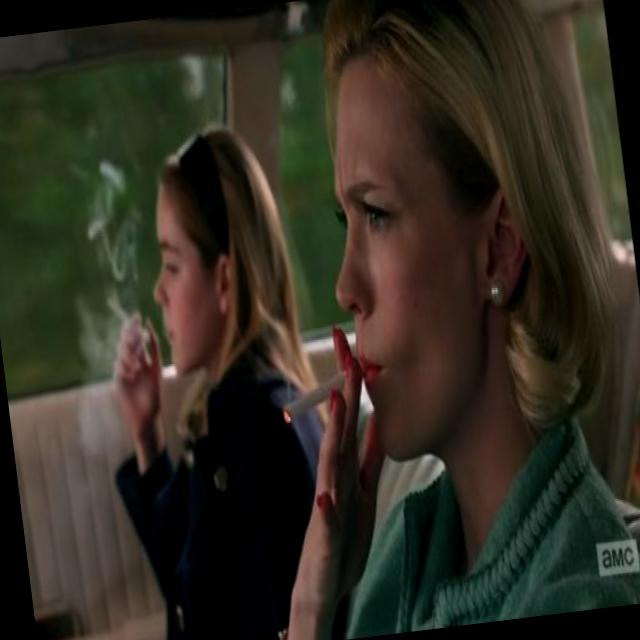cigarette: (278, 370, 349, 423)
